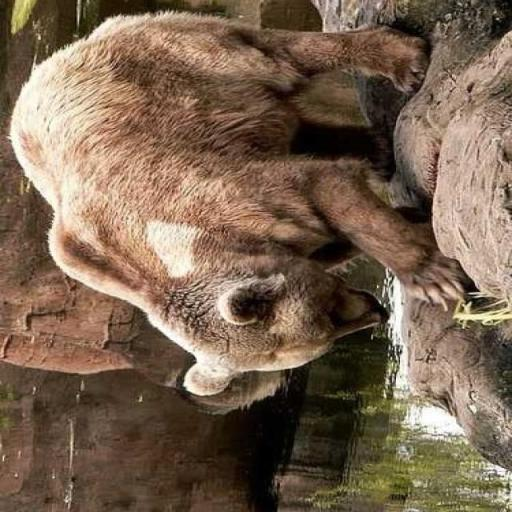Bear: (6, 7, 476, 398)
